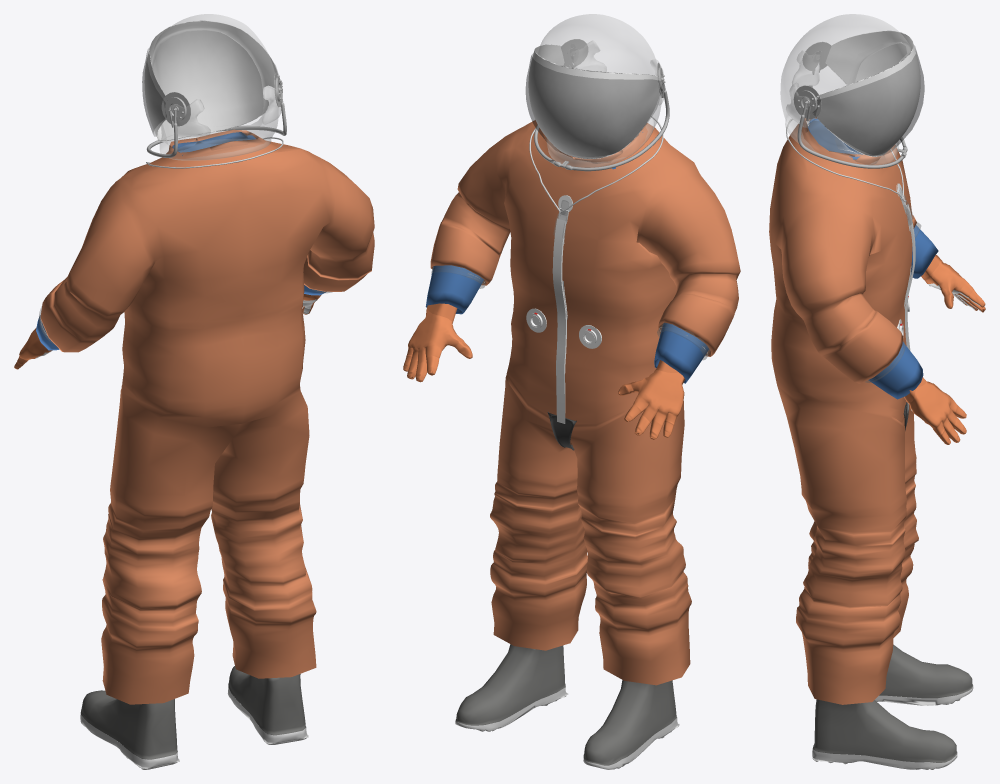
Rendered from space-advanced-crew-escape-suit.glb.
3 views of the same model, side by side, from view 1: azimuth 30°, elevation 25°; view 2: azimuth 150°, elevation 25°; view 3: azimuth 270°, elevation 25° (orthographic). The views are drawn at different scales.
Parts seen in each view (by area): view 1: Advanced Crew Escape Suit; view 2: Advanced Crew Escape Suit; view 3: Advanced Crew Escape Suit.
Part boxes in pixels (x1,y1,x2,y2): Advanced Crew Escape Suit: [14, 14, 374, 769]; Advanced Crew Escape Suit: [403, 14, 740, 769]; Advanced Crew Escape Suit: [769, 14, 985, 769].
Bounding box in the file's own units: 0.8871 × 2 × 0.5548.
Materials: 2 (2 with a texture image).
